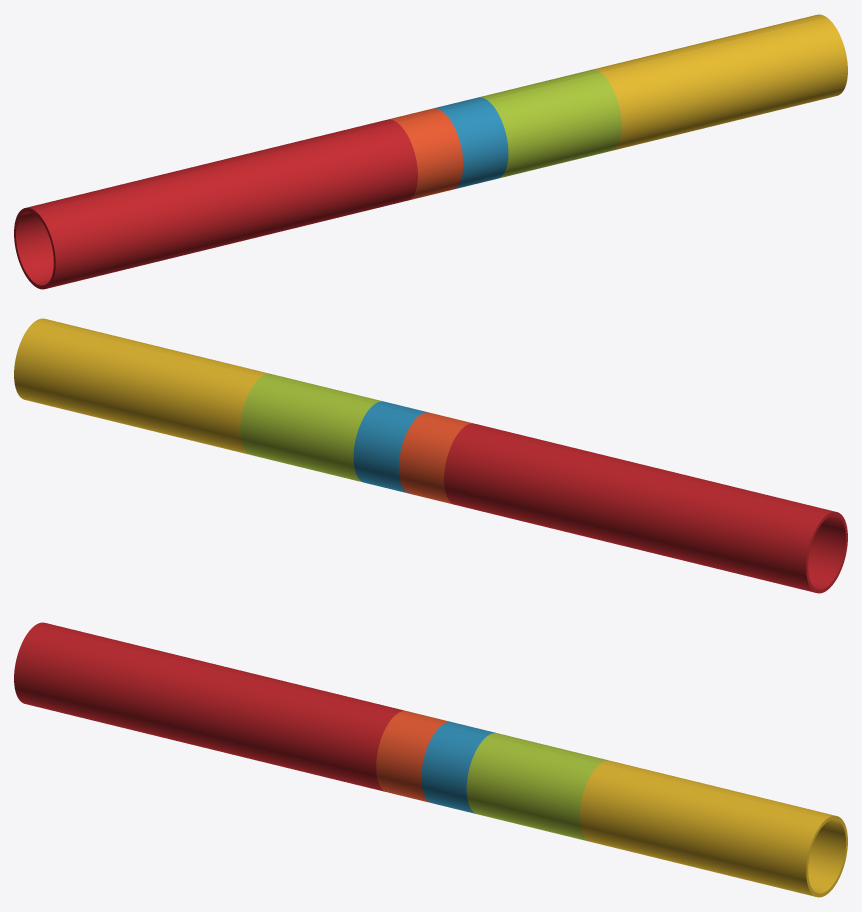
The model's file is flow_nozzle_pressure.glb.
The picture shows the model from 3 angles, top to bottom: view 1: azimuth 30°, elevation 25°; view 2: azimuth 150°, elevation 25°; view 3: azimuth 330°, elevation 25°; orthographic projection.
Parts seen in each view (by area): view 1: prof__front, prof__back; view 2: prof__back, prof__front; view 3: prof__front, prof__back.
Boxes of the visible parts, x1,y1,x2,y2 form: prof__front: [35, 17, 847, 289]; prof__back: [14, 14, 826, 286]; prof__back: [14, 321, 826, 593]; prof__front: [35, 318, 847, 590]; prof__front: [14, 625, 826, 897]; prof__back: [35, 622, 847, 894].
Size of the model in its own units: 1.4 by 0.128 by 0.128.
